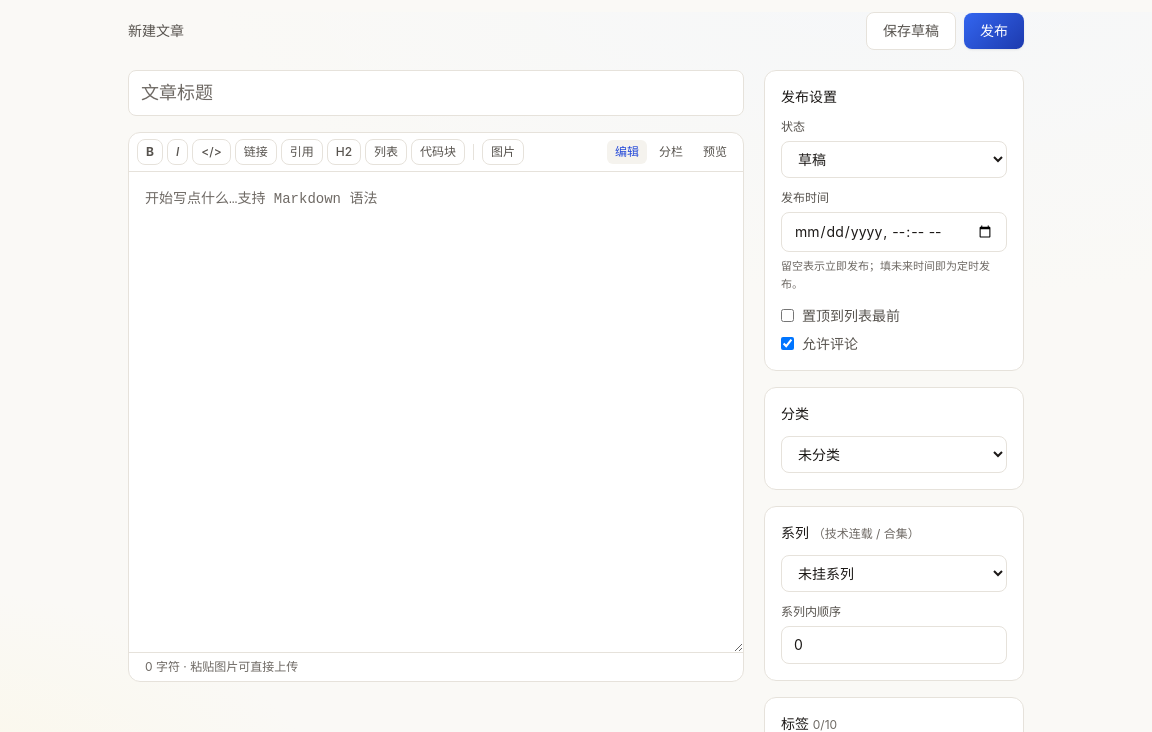
Scenario: ArticleEditView · 保存 › 改动标题后旧的字段级错误立刻消失（否则红字会一直挂着）
Type "重复的标题" into the field named "文章标题" at (436, 93), box [128, 70, 744, 116]
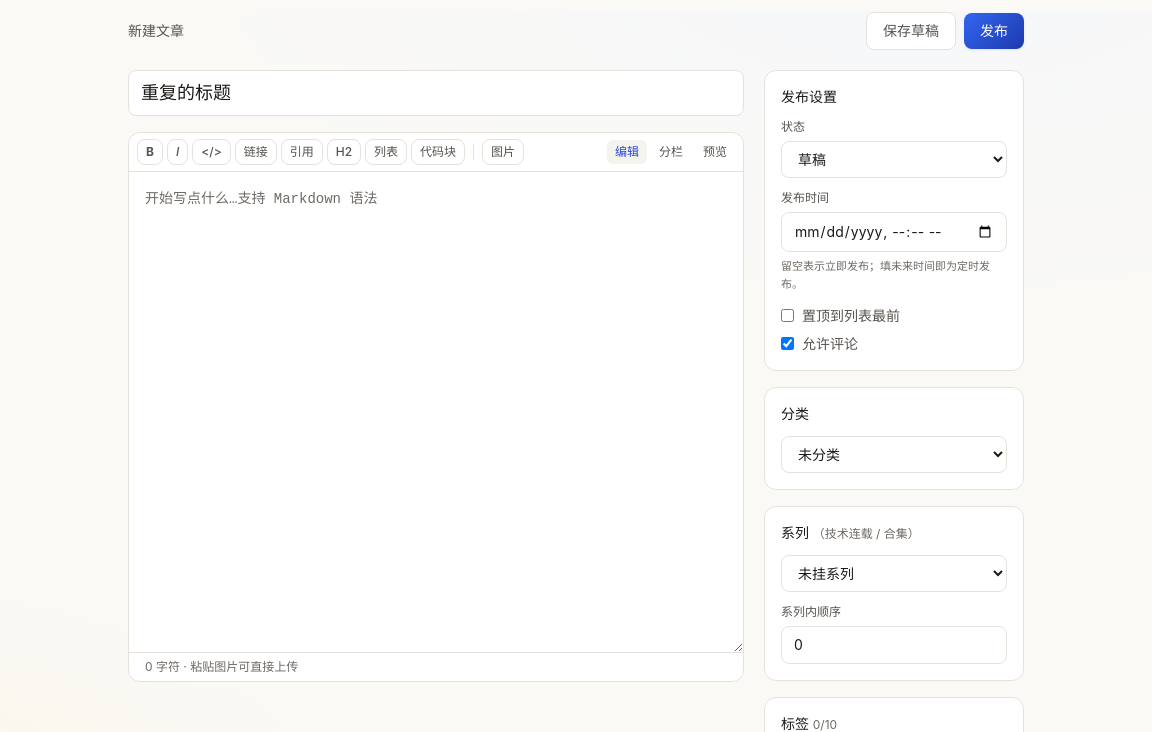
Click the button "保存草稿" at (911, 31), box [866, 12, 956, 50]
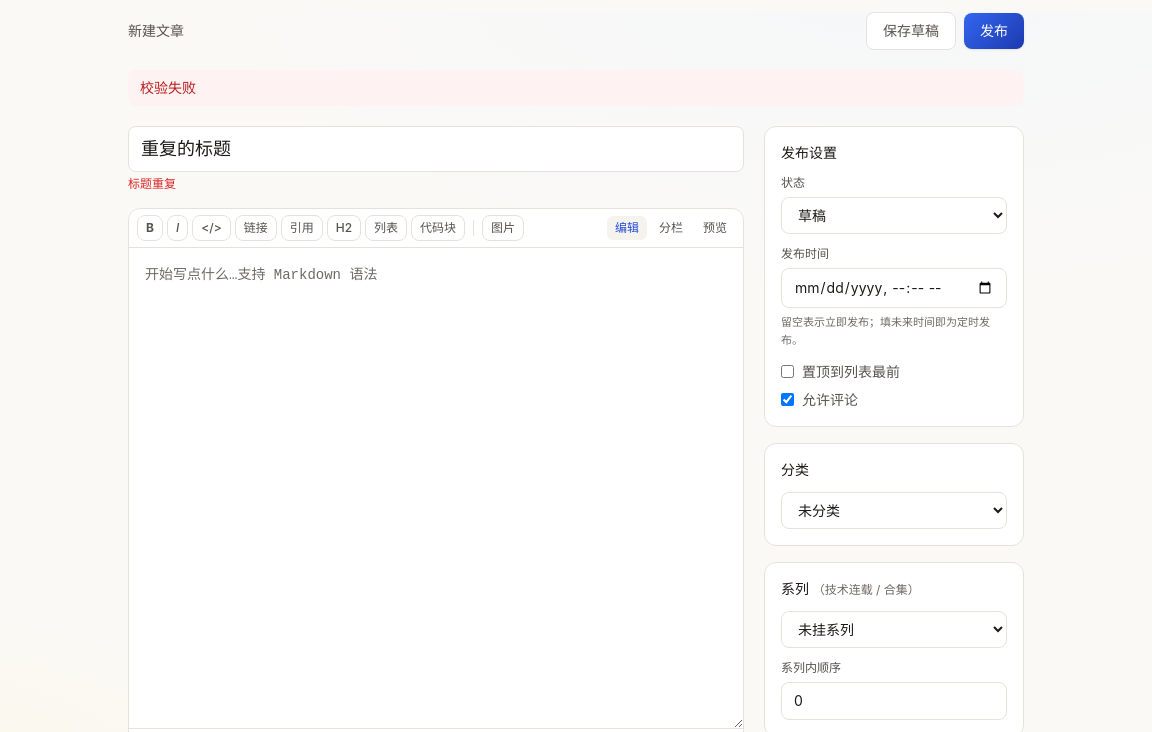
Now the text "标题重复" is shown, box [128, 176, 176, 191]
Replace the text in the field named "文章标题" with "另一个标题" at (436, 149), box [128, 126, 744, 172]
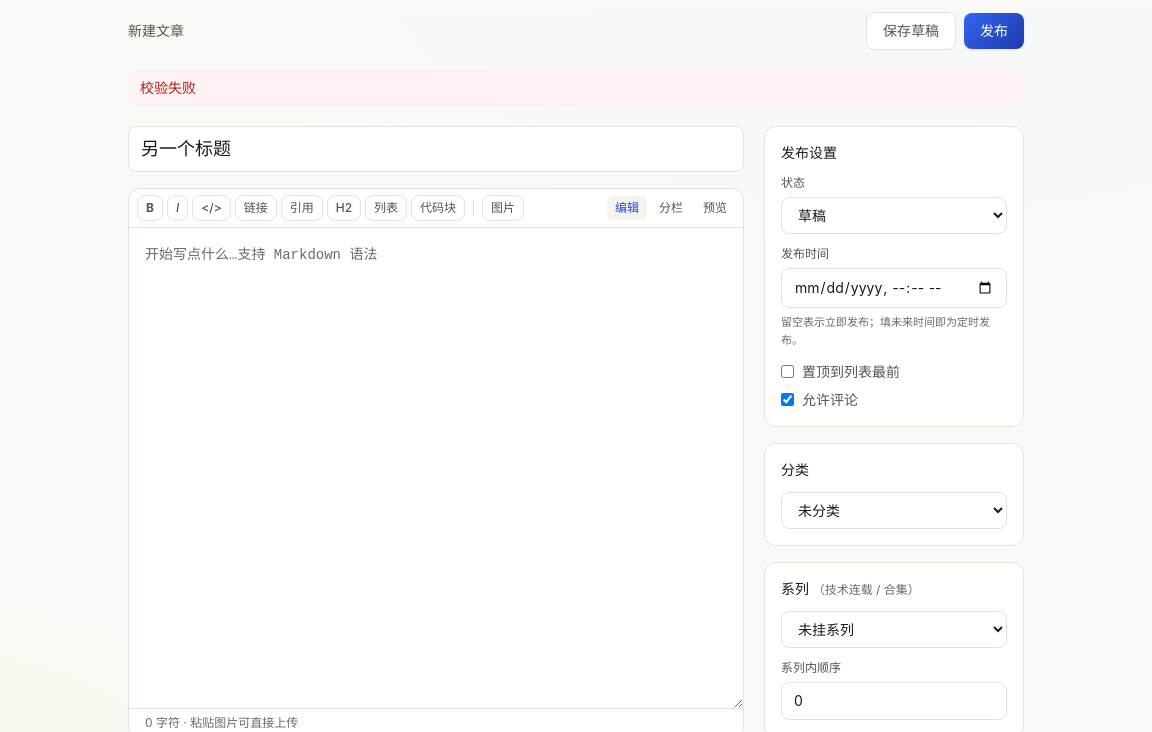
Now the text "标题重复" is gone
